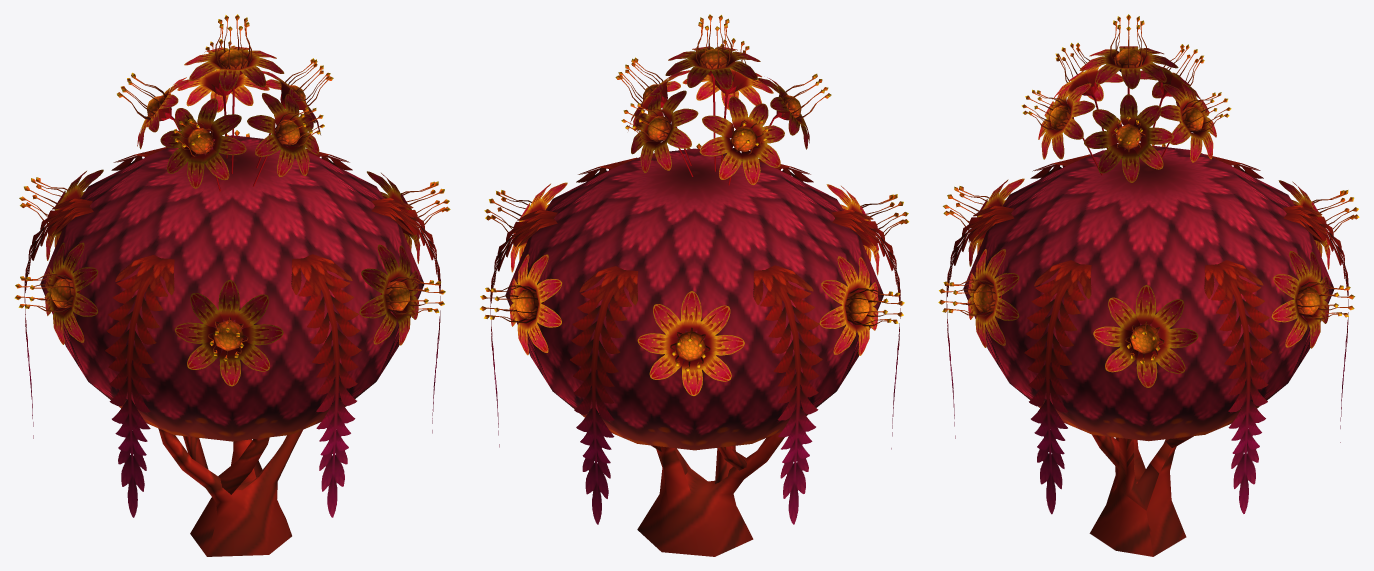
The model's file is Red_Tree_12b.FBX.
The picture shows the model from 3 angles, left to right: view 1: azimuth 30°, elevation 25°; view 2: azimuth 150°, elevation 25°; view 3: azimuth 270°, elevation 25°; orthographic projection. The views are drawn at different scales.
Parts seen in each view (by area): view 1: Red_Tree_12b; view 2: Red_Tree_12b; view 3: Red_Tree_12b.
Part boxes in pixels (x1,y1,x2,y2): Red_Tree_12b: (14,14,450,556); Red_Tree_12b: (480,14,908,556); Red_Tree_12b: (938,14,1359,556).
Size of the model in its own units: 250 by 297 by 225.
